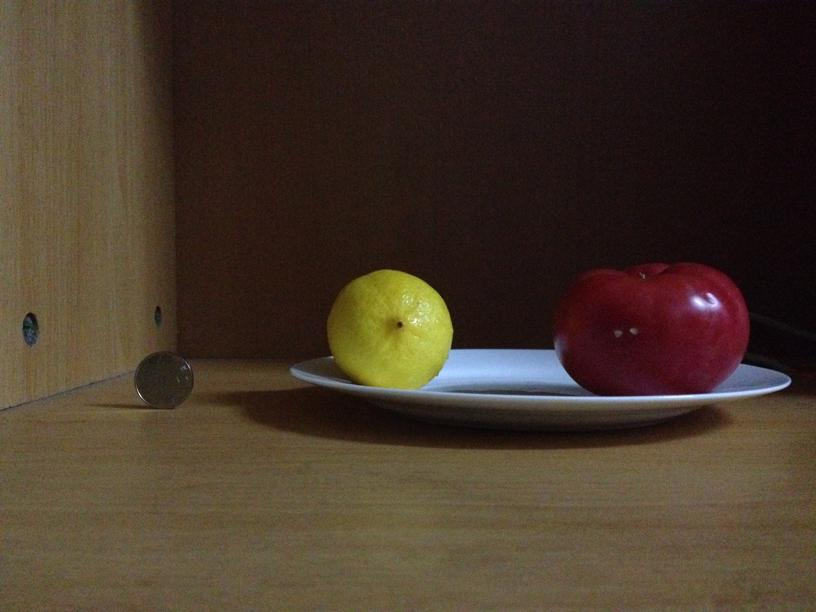coin: (132, 349, 195, 409)
lemon: (324, 267, 452, 390)
tomato: (554, 265, 750, 393)
